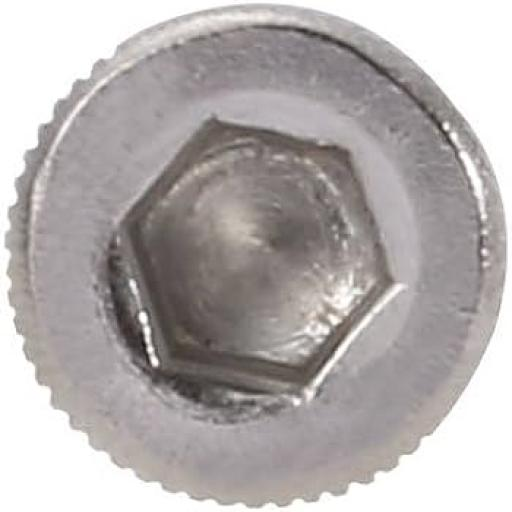Hex-Allen: (7, 4, 507, 500)
